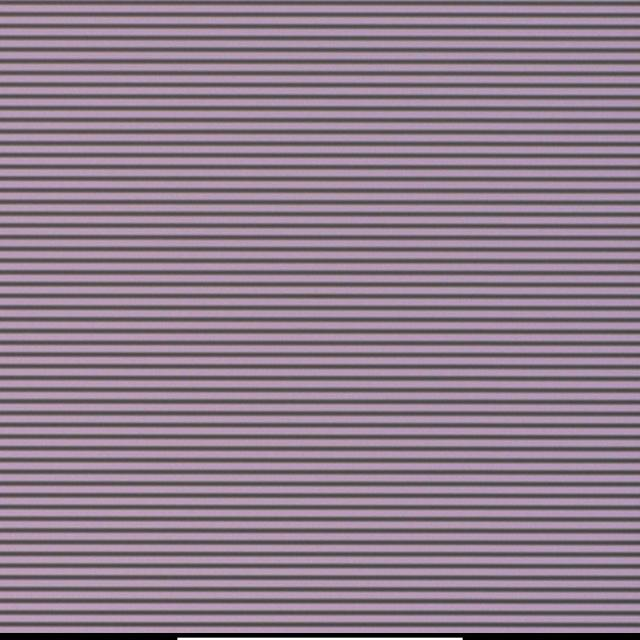03_intrusion: (349, 285, 355, 290)
